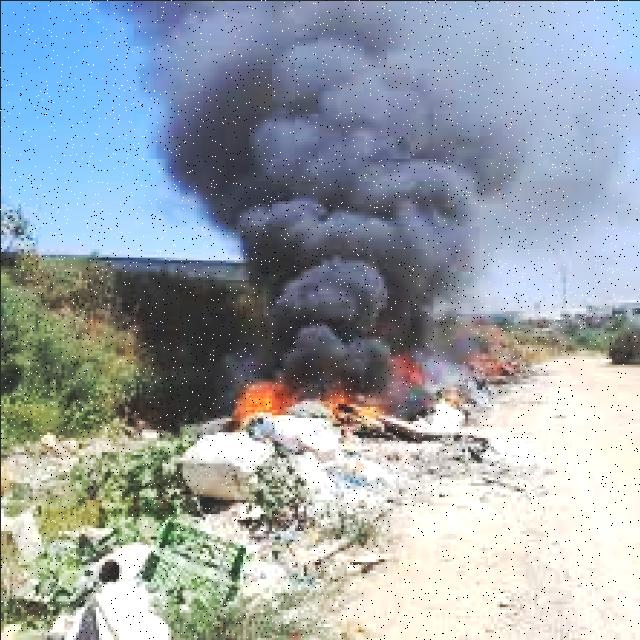api: (232, 387, 280, 423)
asap: (105, 6, 621, 374)
